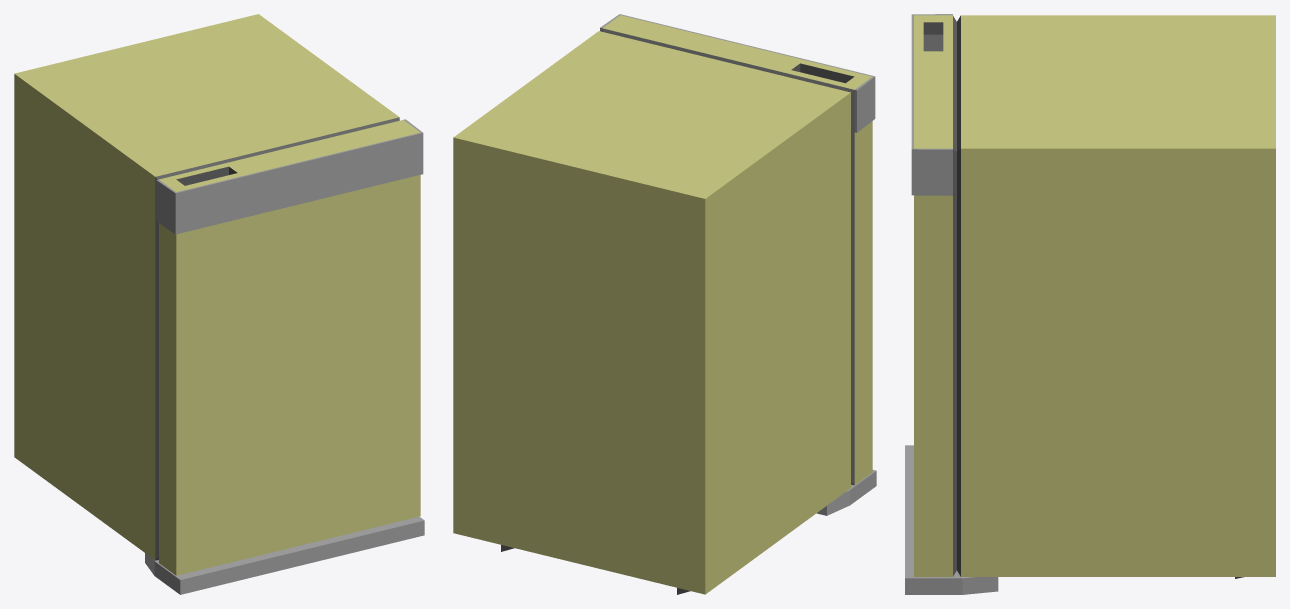
Rendered from Refrigerator2.fbx.
The picture shows the model from 3 angles, left to right: view 1: azimuth 30°, elevation 25°; view 2: azimuth 150°, elevation 25°; view 3: azimuth 270°, elevation 25°; orthographic projection. The views are drawn at different scales.
Parts seen in each view (by area): view 1: Cube; view 2: Cube; view 3: Cube.
Boxes of the visible parts, box(x1,y1,x2,y2) form: Cube: box(14, 14, 424, 594); Cube: box(453, 14, 876, 594); Cube: box(905, 14, 1275, 594).
Size of the model in its own units: 0.816 by 1.25 by 0.9417.
